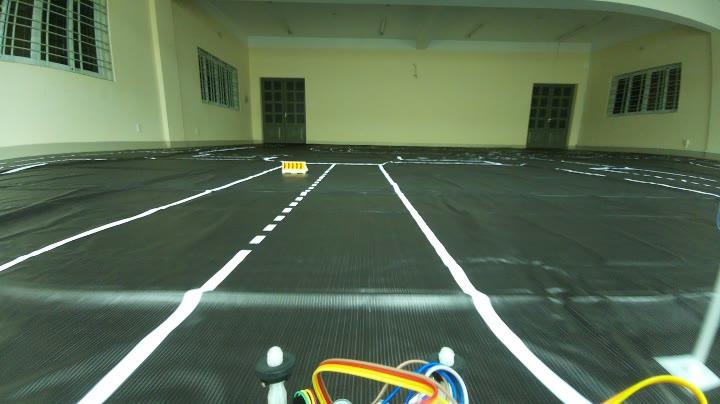roadblock: (277, 156, 314, 176)
